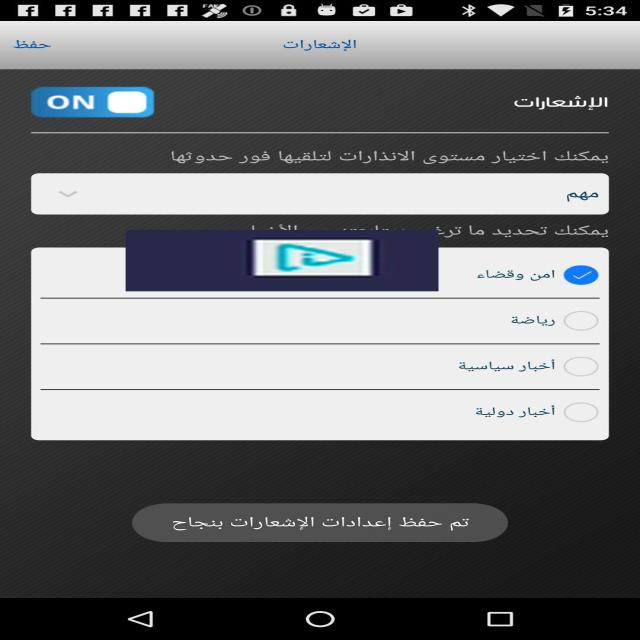sneaking: (125, 230, 438, 291)
